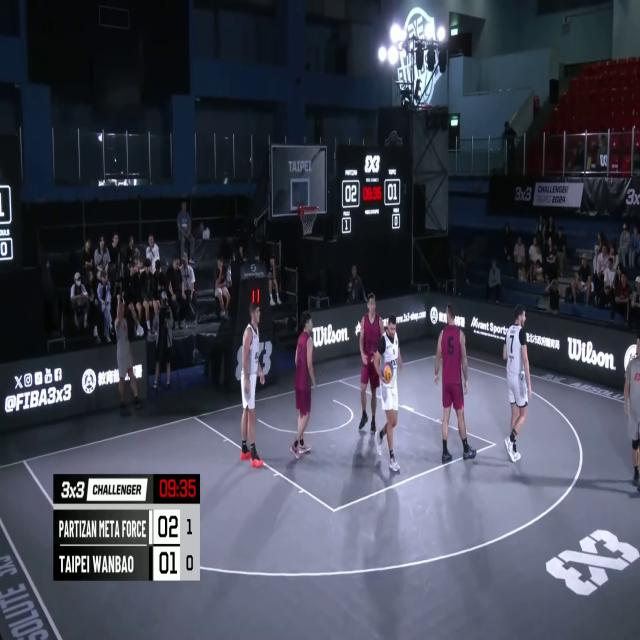ball: (381, 362, 394, 386)
hoop: (298, 202, 320, 238)
player: (436, 307, 477, 471), (353, 289, 387, 438), (286, 309, 316, 463), (238, 296, 264, 467), (375, 313, 402, 475), (503, 306, 531, 462)
